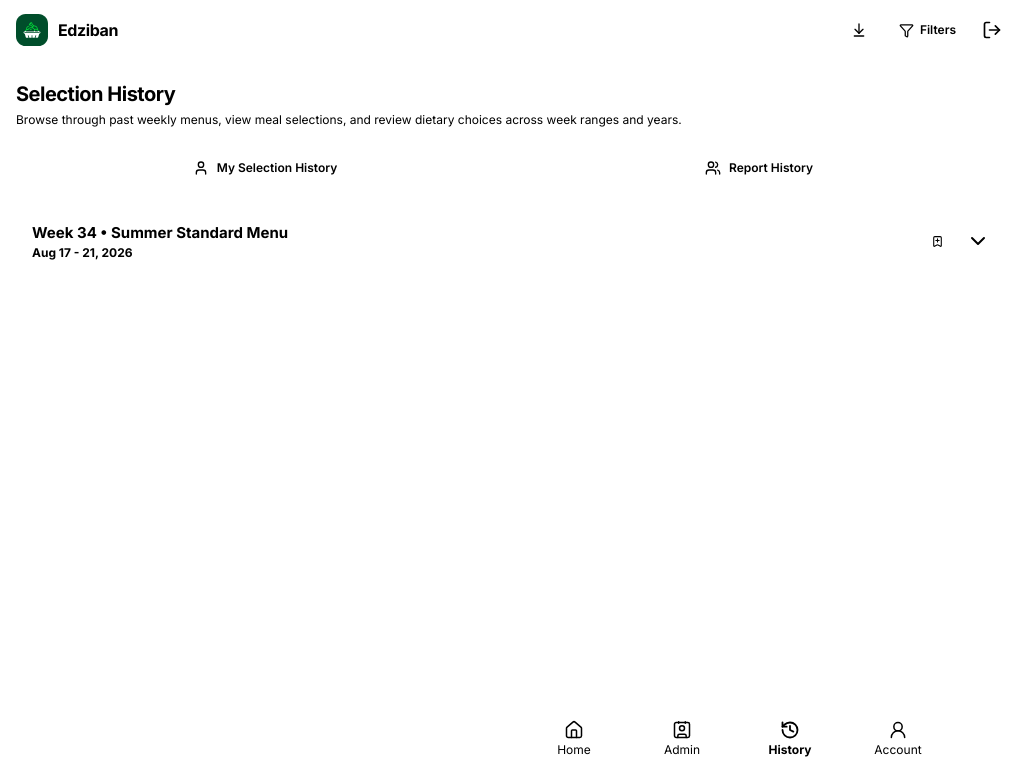
Test: History Page Component › renders history header, title, user weekly cards with descriptive week date range collapsed by default and expands on click
The width and height of the screenshot is (1024, 768).
Expected: the text "Edziban" is shown, 58,18 -> 118,42
Expected: the heading "Selection History" is shown, 16,82 -> 175,106
// Click to expand
Click the button named "expand week" at (978, 241), box 964,227 -> 992,255
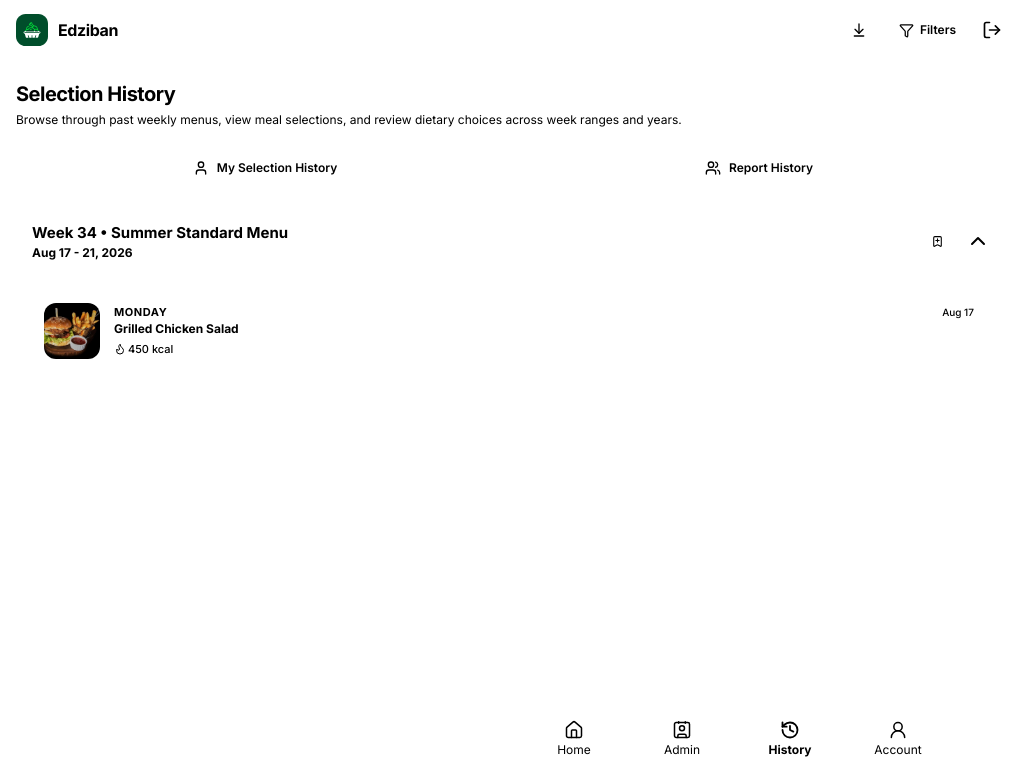
Now the heading "Grilled Chicken Salad" is shown, box 114,320 -> 239,336
Now the text "Aug 17" is shown, box 942,306 -> 974,318
